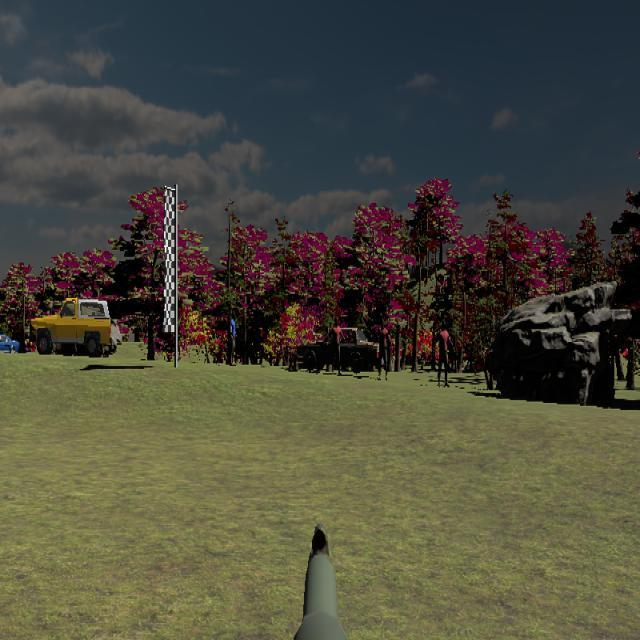Human: (432, 318, 457, 389), (373, 316, 393, 381), (326, 319, 347, 376)
car: (30, 297, 112, 357), (0, 332, 21, 355)
